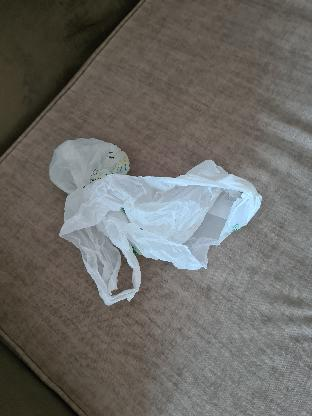Plastic Bag: (48, 138, 262, 306)
